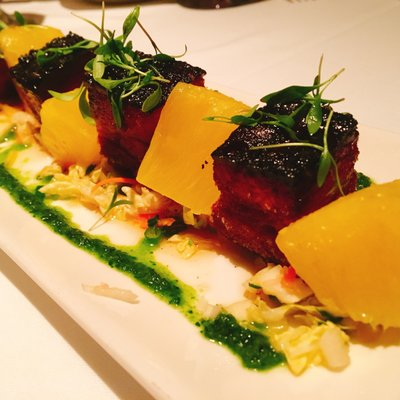curry: (197, 313, 286, 371)
